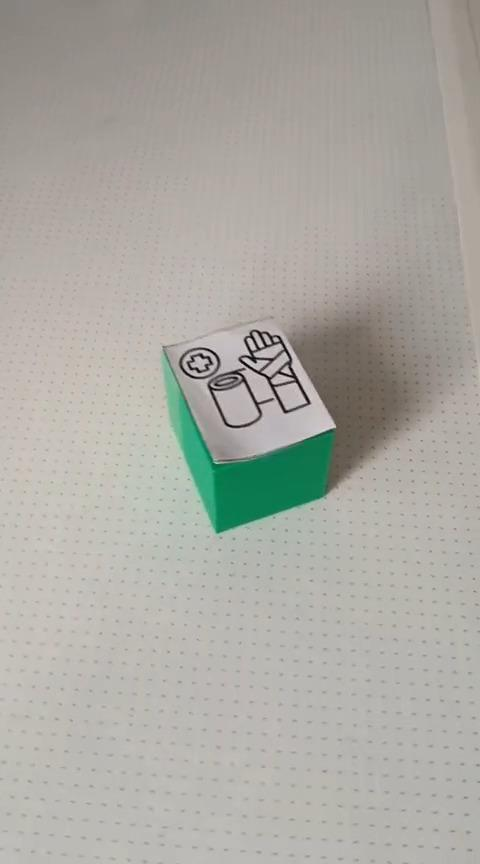Bandages: (164, 317, 337, 535)
